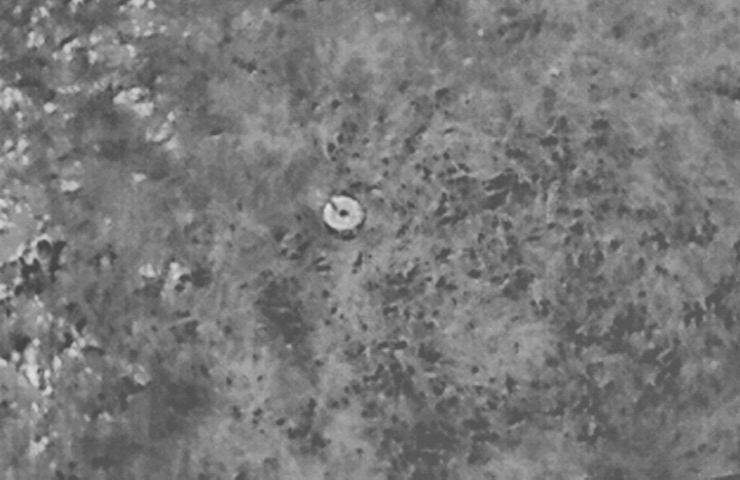landmines: (315, 189, 371, 237)
